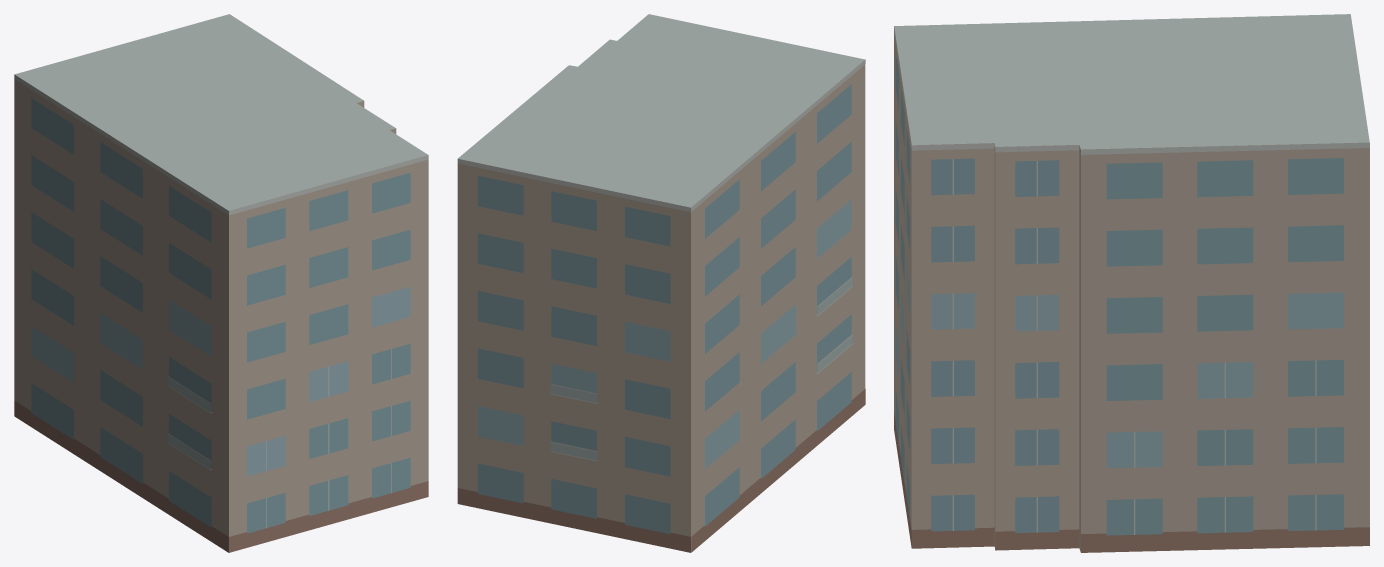
Rendered from survey-upis-32744653.glb.
3 renders of one model, left to right at view 1: azimuth 30°, elevation 25°; view 2: azimuth 150°, elevation 25°; view 3: azimuth 270°, elevation 25°, orthographic. The views are drawn at different scales.
Parts seen in each view (by area): view 1: survey-upis-32744653.tmp; view 2: survey-upis-32744653.tmp; view 3: survey-upis-32744653.tmp.
Boxes of the visible parts, bbox=[...] form: survey-upis-32744653.tmp: bbox=[14, 14, 428, 552]; survey-upis-32744653.tmp: bbox=[457, 14, 865, 552]; survey-upis-32744653.tmp: bbox=[894, 14, 1369, 552].
Size of the model in its own units: 13.19 by 18.3 by 19.57.
